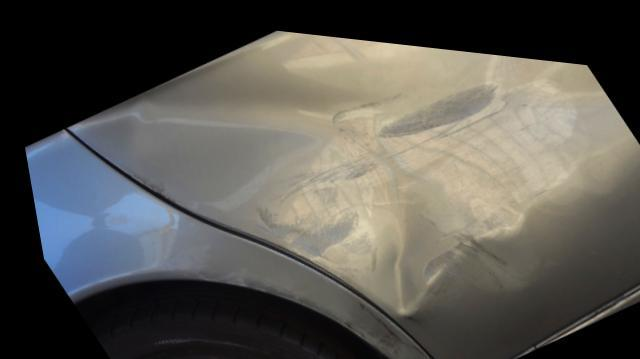dent: (130, 26, 640, 306)
scratch: (322, 292, 419, 359)
